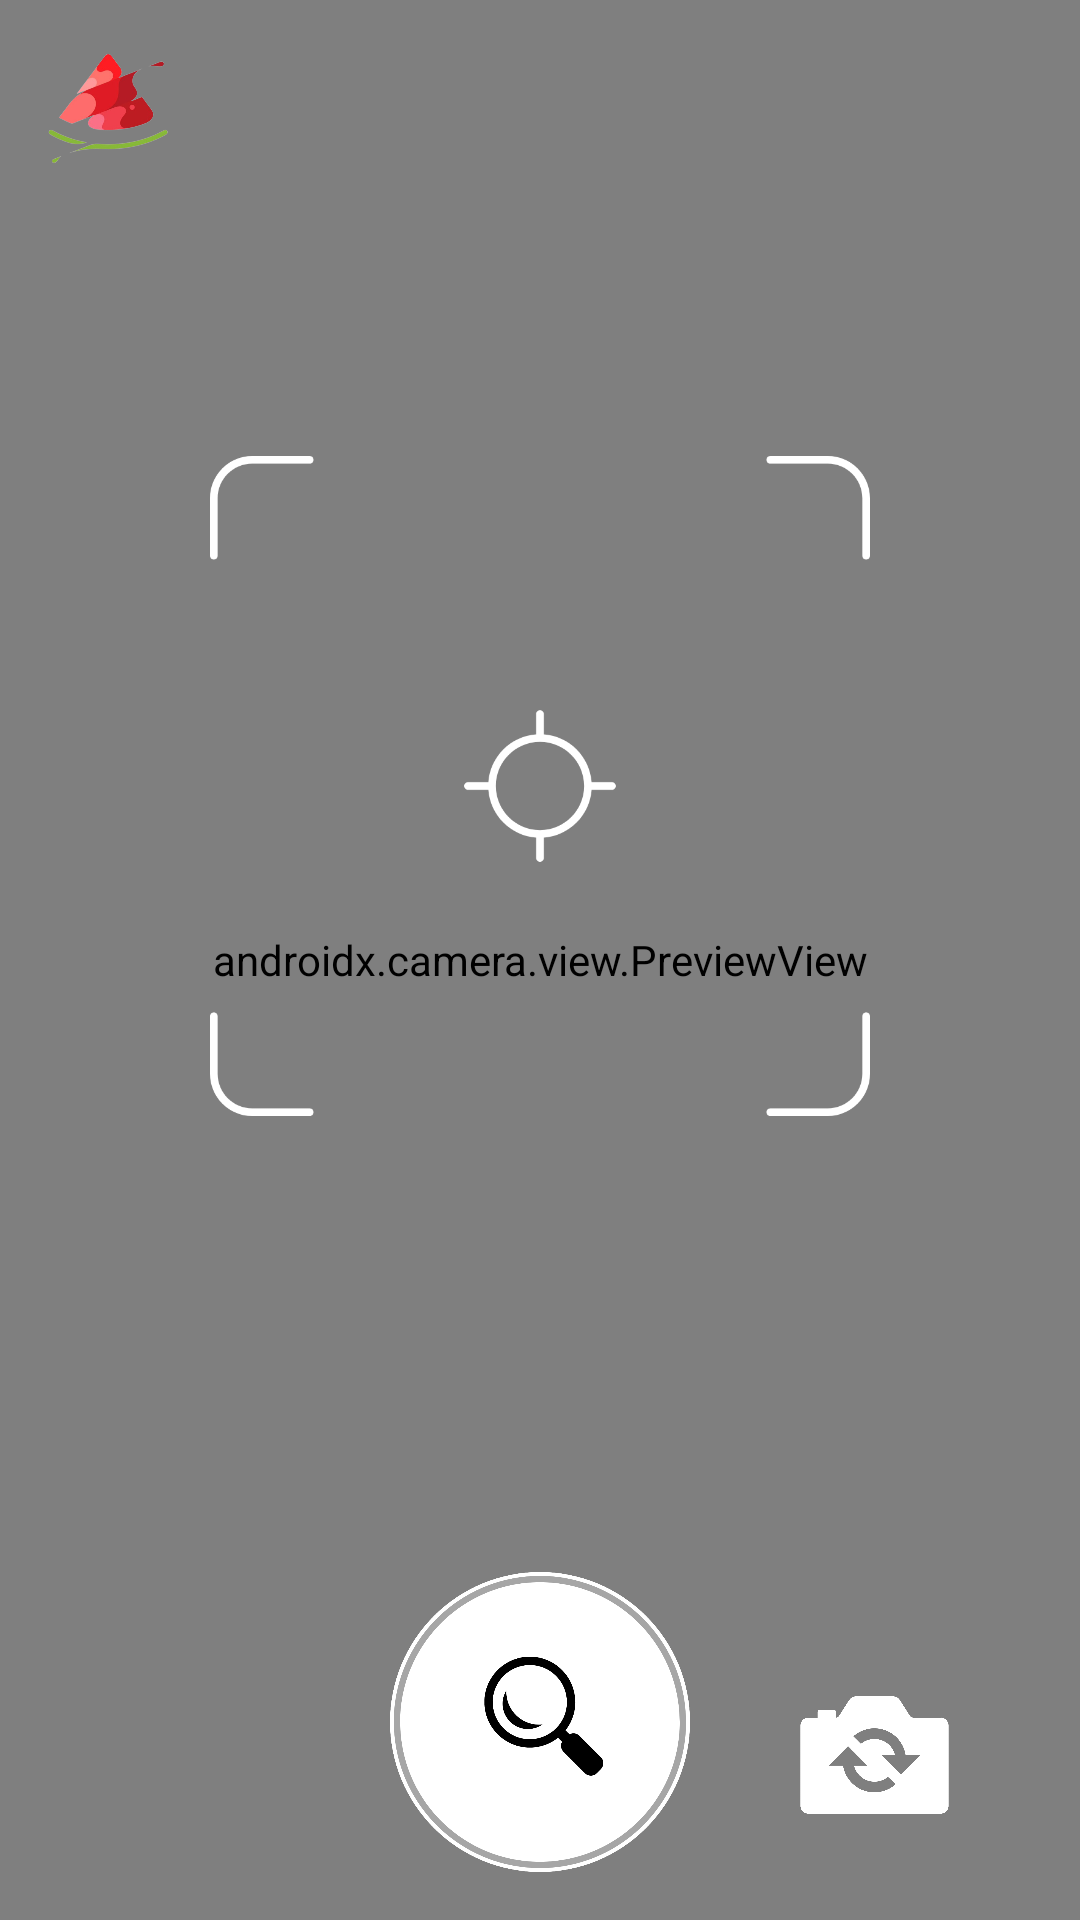

Named icons in this screenshot (1080px×1920px) and their bounding boxes, (x1, y1, x2, y2):
switch camera: (800, 1696, 949, 1814)
